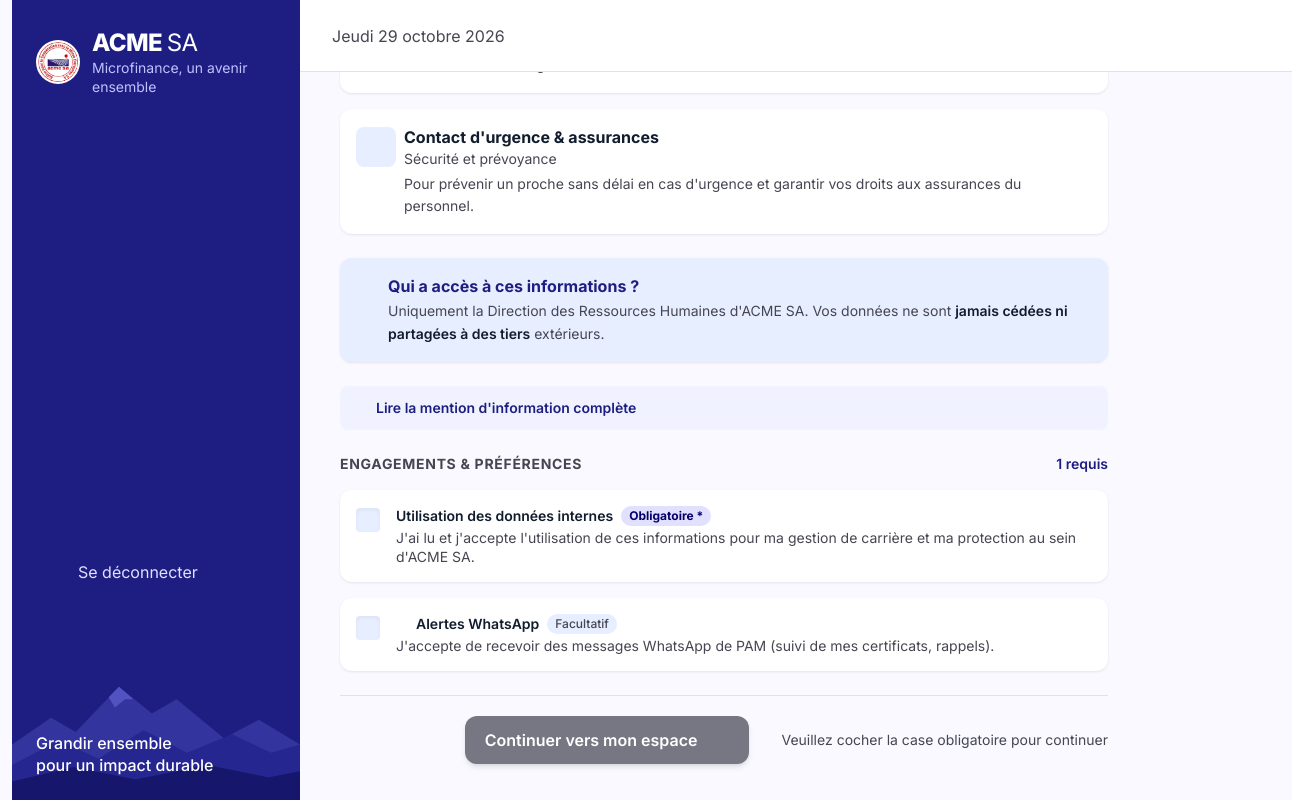
Test: US-202 CA-01 — Avant de commencer › continuer reste impossible tant que la case obligatoire n’est pas cochée
(page scrolled)
Expected: the button "Continuer vers mon espace" is disabled, x1=465 y1=716 x2=750 y2=764
Expected: the text "Veuillez cocher la case obligatoire pour continuer" is shown, x1=762 y1=730 x2=1108 y2=750
Click the checkbox labelled "J'ai lu et j'accepte".
click(724, 536)  # box x1=340 y1=490 x2=1108 y2=582
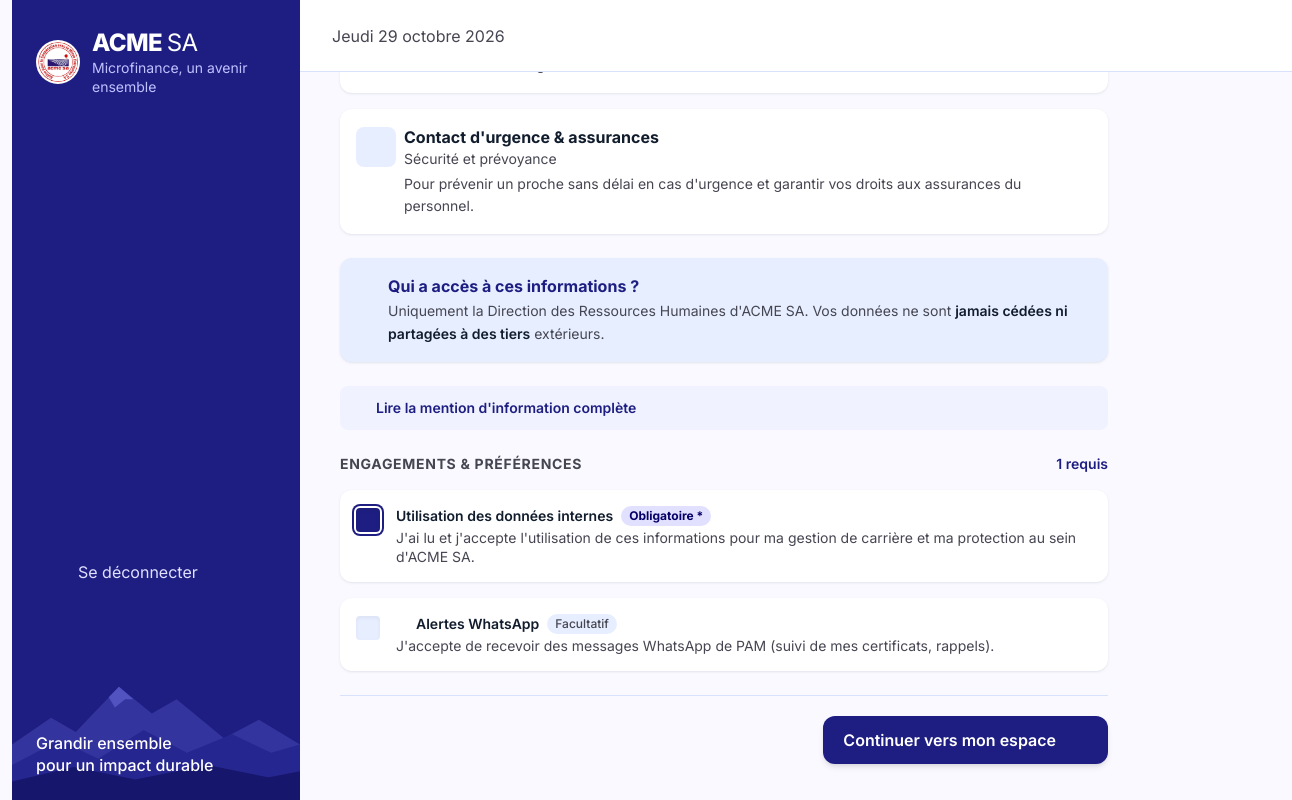
Result: the button "Continuer vers mon espace" is enabled at x1=823 y1=716 x2=1108 y2=764
